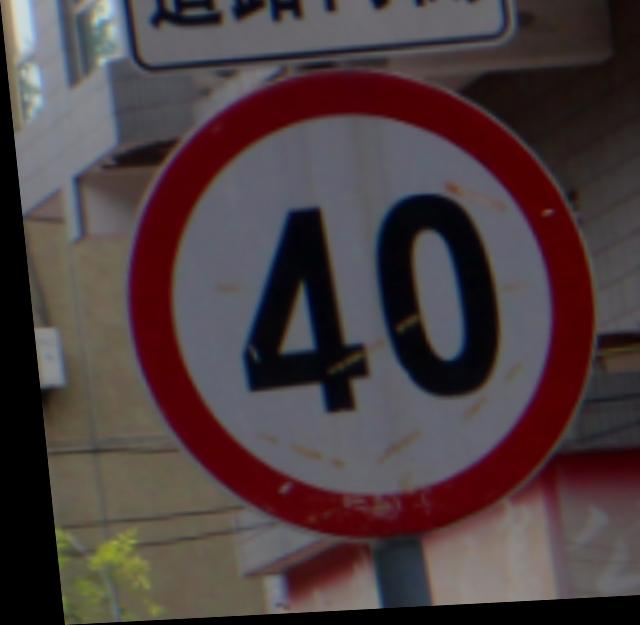limit40: (88, 46, 615, 551)
